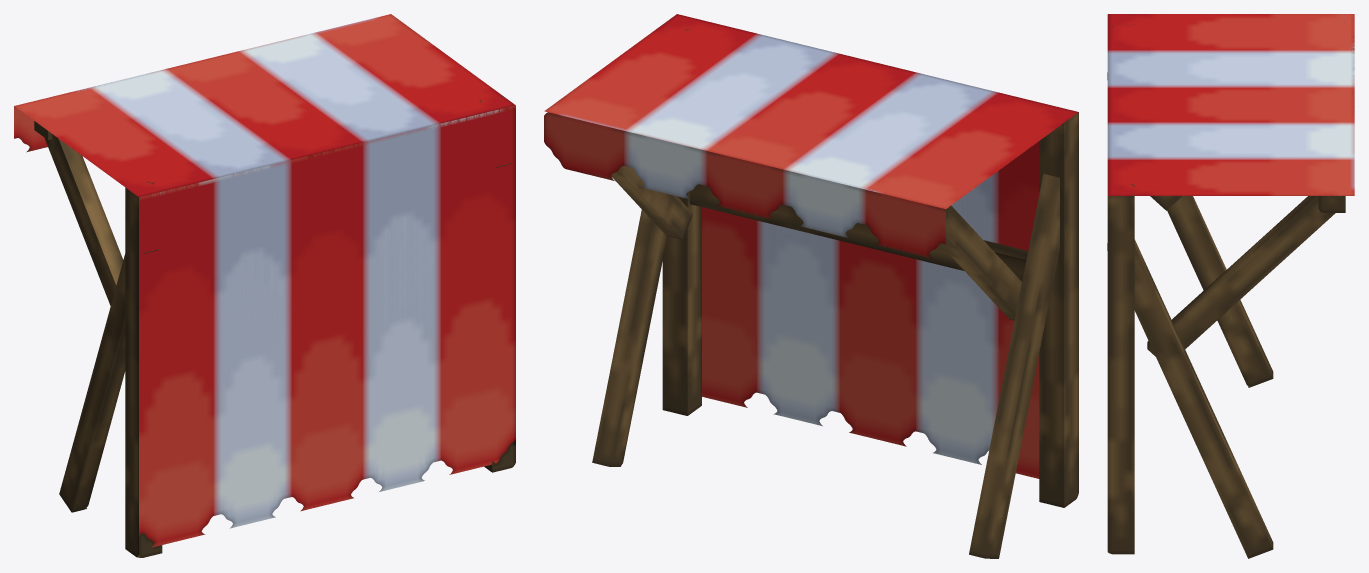
Rendered from medieval_market_marketstall_red.fbx.
The picture shows the model from 3 angles, left to right: view 1: azimuth 30°, elevation 25°; view 2: azimuth 150°, elevation 25°; view 3: azimuth 270°, elevation 25°; orthographic projection. The views are drawn at different scales.
Parts seen in each view (by area): view 1: marketstall; view 2: marketstall; view 3: marketstall.
Part boxes in pixels (left/top/right/bottom): marketstall: left=14, top=14, right=515, bottom=557; marketstall: left=544, top=14, right=1078, bottom=558; marketstall: left=1107, top=14, right=1354, bottom=558.
Size of the model in its own units: 300 by 280 by 172.
Materials: 1 (1 with a texture image).
